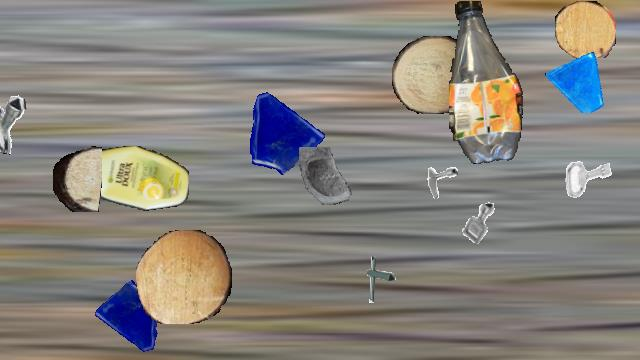glass: (237, 85, 327, 175), (93, 280, 171, 358), (293, 147, 361, 215), (545, 50, 607, 112)
metal: (0, 95, 59, 157), (557, 148, 617, 208), (451, 195, 507, 251), (352, 253, 404, 305), (416, 156, 458, 198)
plastic: (449, 1, 525, 163), (76, 146, 188, 212)
wood: (136, 230, 232, 324), (392, 36, 474, 114), (555, 1, 615, 59), (53, 145, 101, 211)
